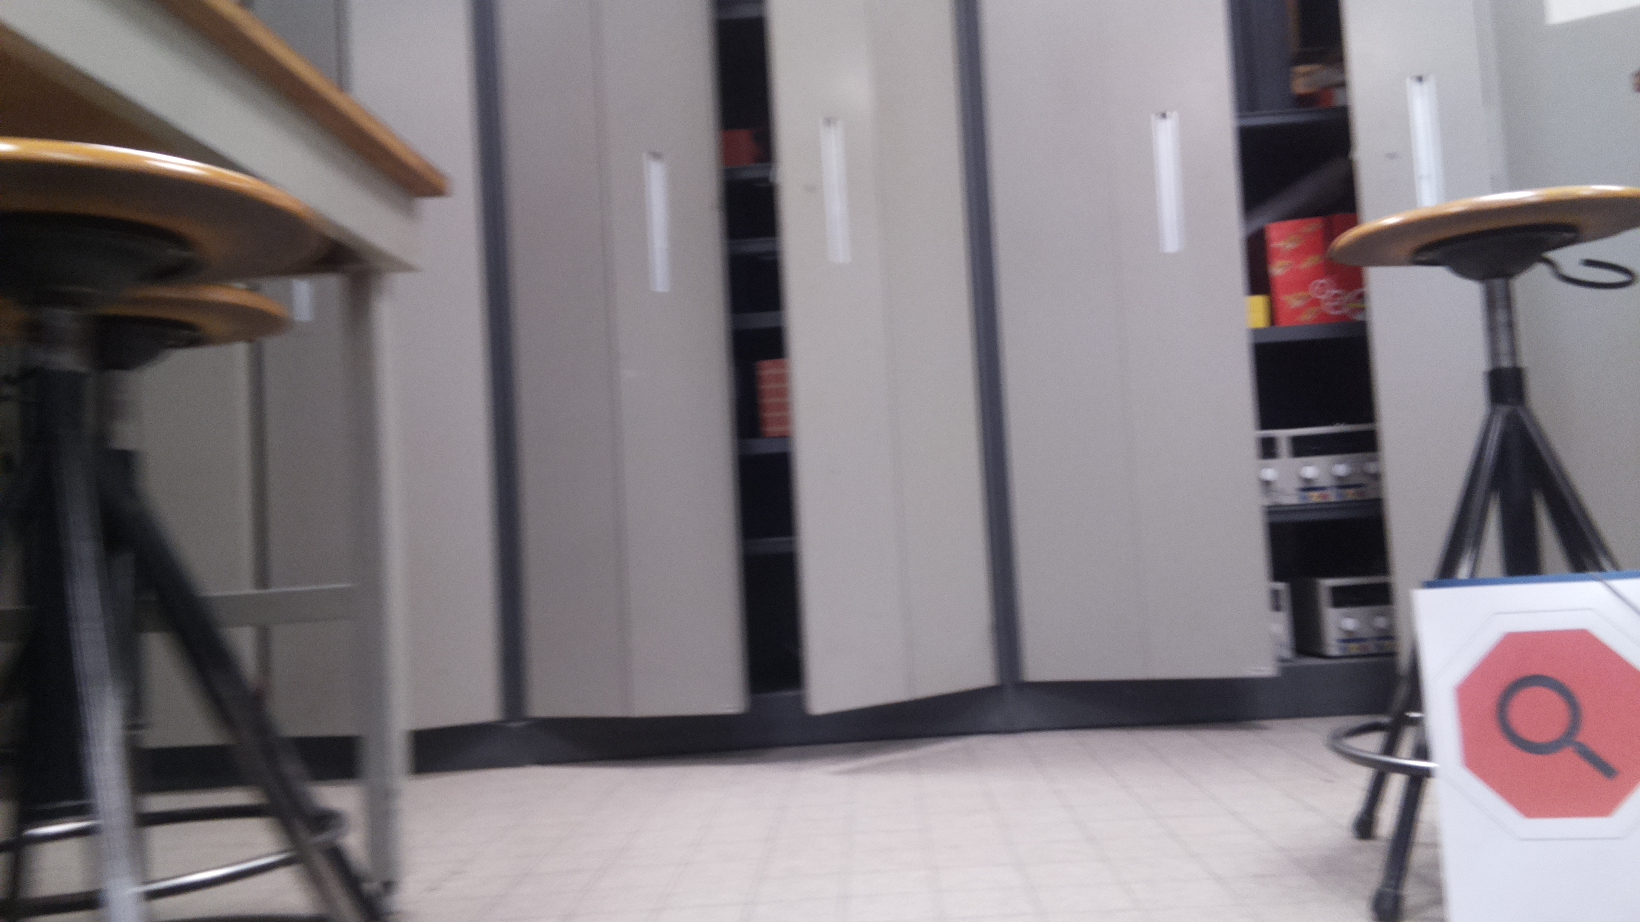search: (1435, 609, 1640, 844)
